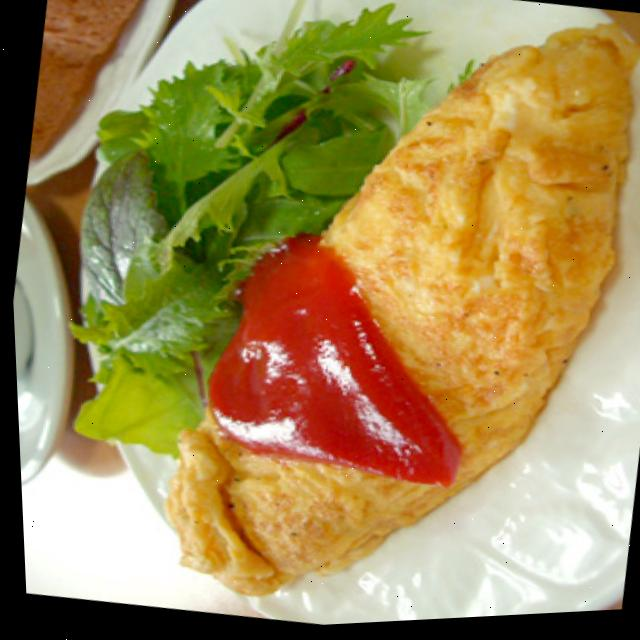鸡蛋料理: (174, 0, 640, 633)
